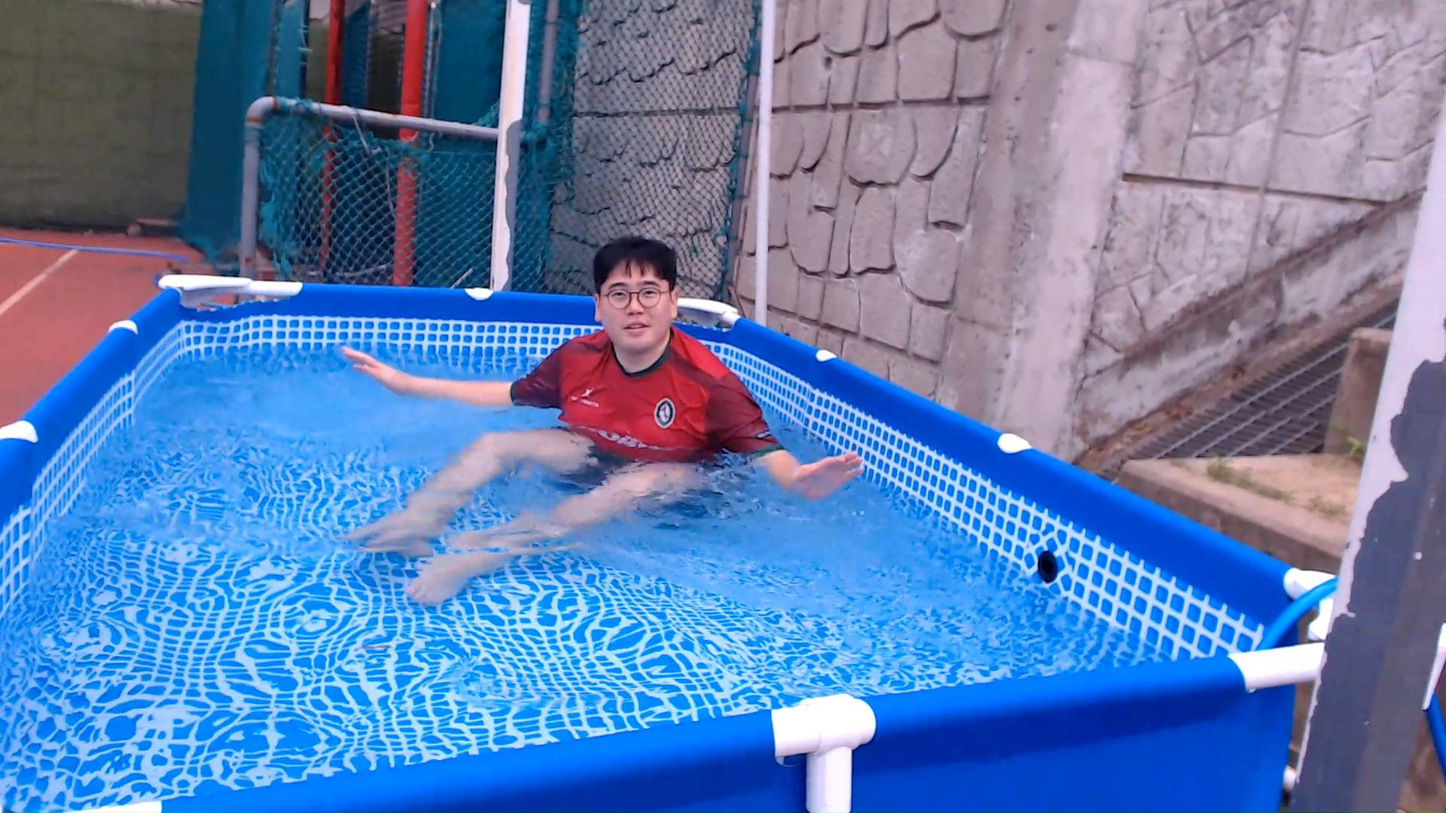Swimming: (278, 207, 890, 599)
